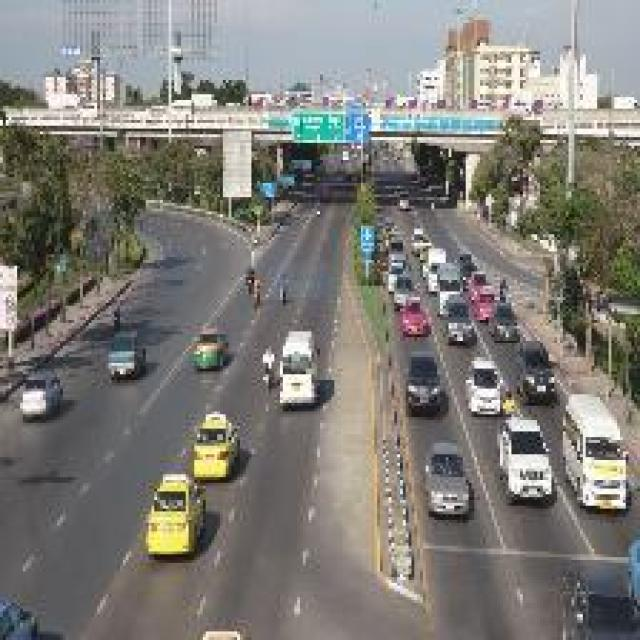other: (143, 410, 249, 550)
